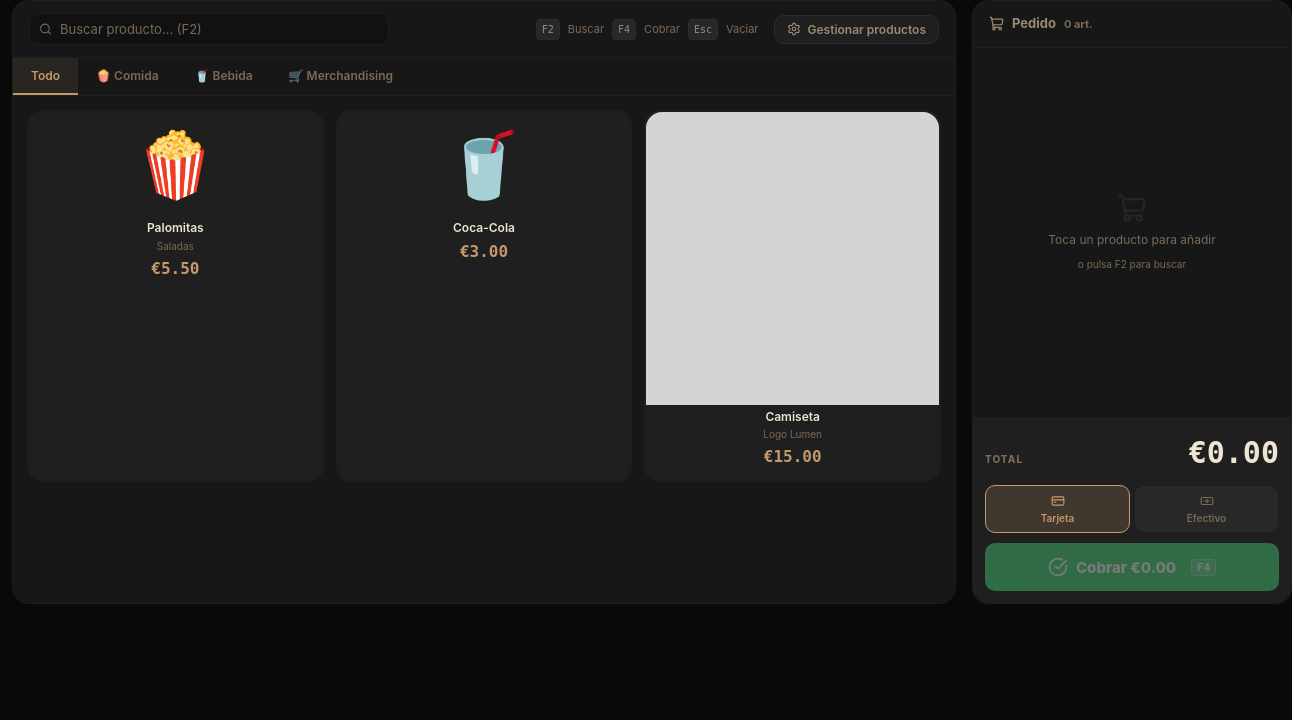
Test: ConcessionPage — comprehensive › filters products by category tabs
Expected: the text "Palomitas" is shown, left=147, top=220, right=204, bottom=235
Click the button "🥤 Bebida" at [224, 76], box left=177, top=58, right=271, bottom=95
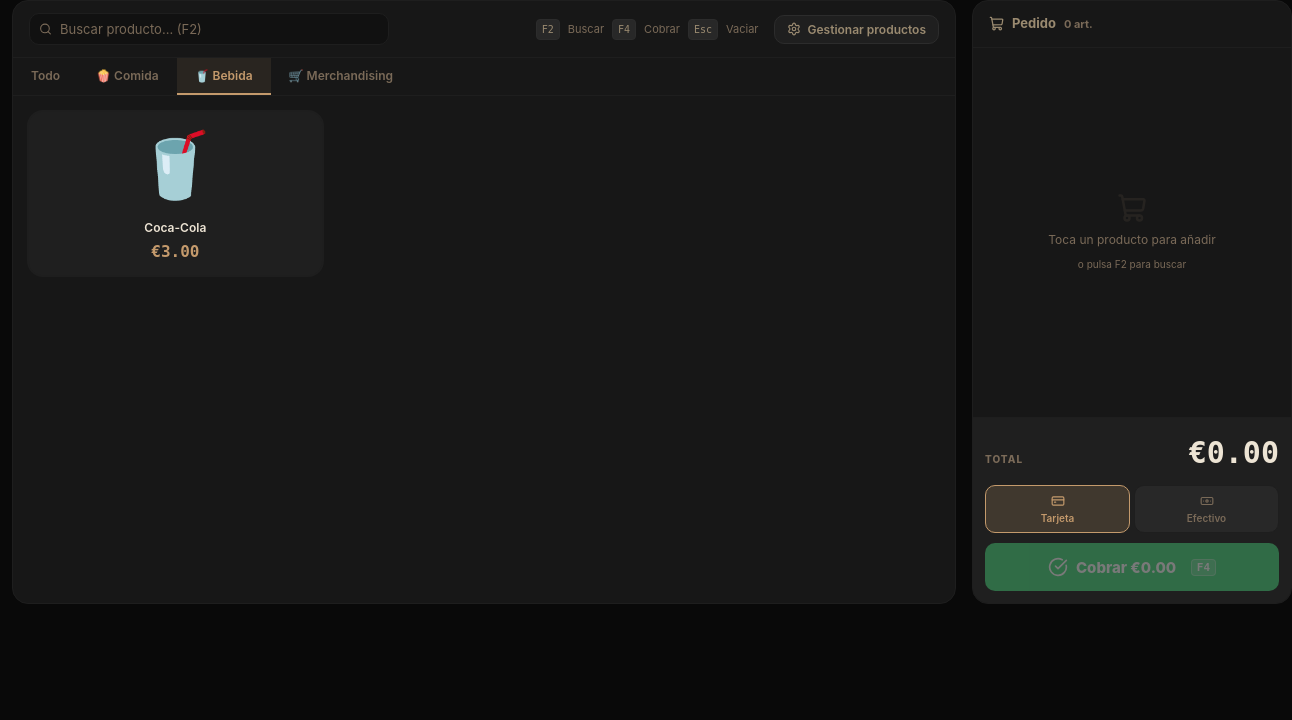
Expected: the text "Coca-Cola" is shown, left=144, top=220, right=206, bottom=235
Now the button "Palomitas" is gone
Click the button "Todo" at [46, 76], box left=13, top=58, right=78, bottom=95
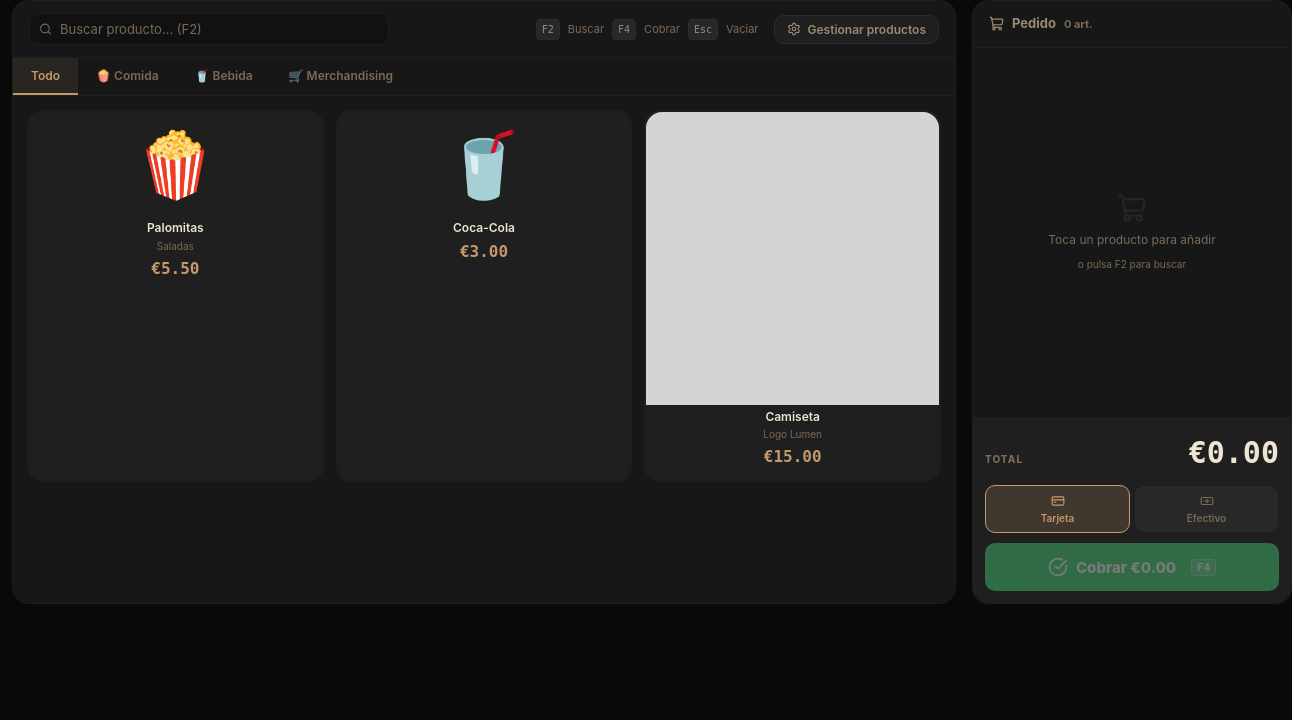
Now the text "Palomitas" is shown, box left=147, top=220, right=204, bottom=235
